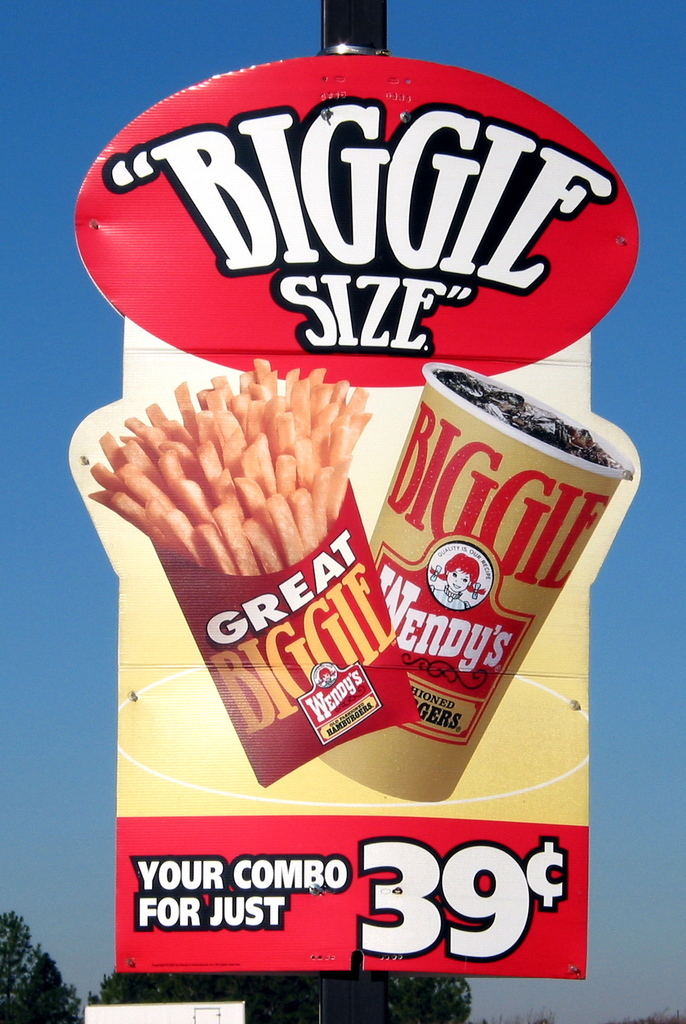French fries: (85, 360, 395, 572)
